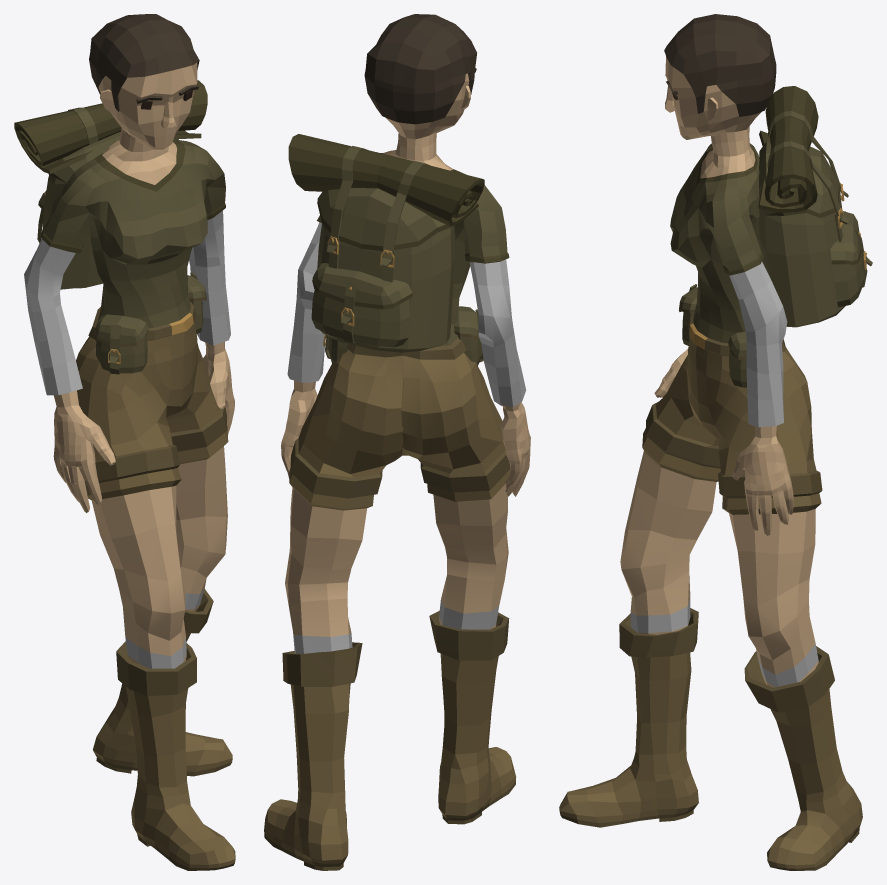
File: Adventurer_static.glb
3 renders of one model, left to right at view 1: azimuth 30°, elevation 25°; view 2: azimuth 150°, elevation 25°; view 3: azimuth 270°, elevation 25°, orthographic.
Parts seen in each view (by area): view 1: Adventurer; view 2: Adventurer; view 3: Adventurer.
Boxes of the visible parts, x1=… form: Adventurer: x1=14, y1=14, x2=235, y2=870; Adventurer: x1=264, y1=14, x2=530, y2=870; Adventurer: x1=559, y1=14, x2=872, y2=870.
Bounding box in the file's own units: 0.5178 × 1.79 × 0.6348.
1 material, 1 textured.
